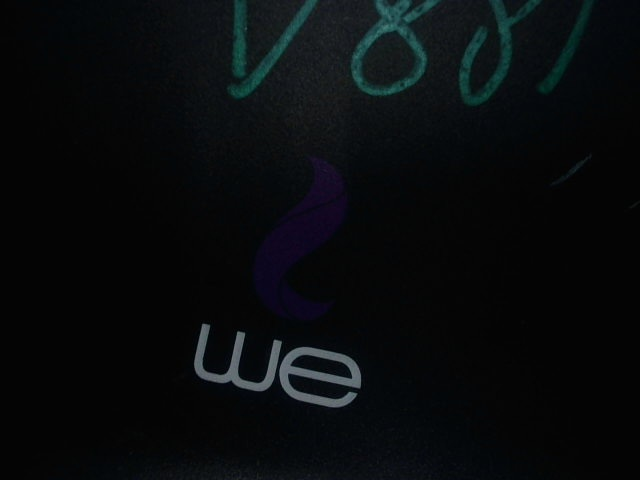AT_We: (181, 146, 383, 411)
